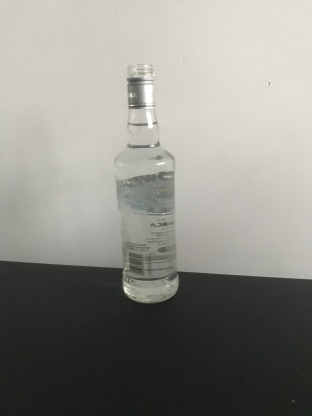nakretka: (124, 61, 157, 109)
